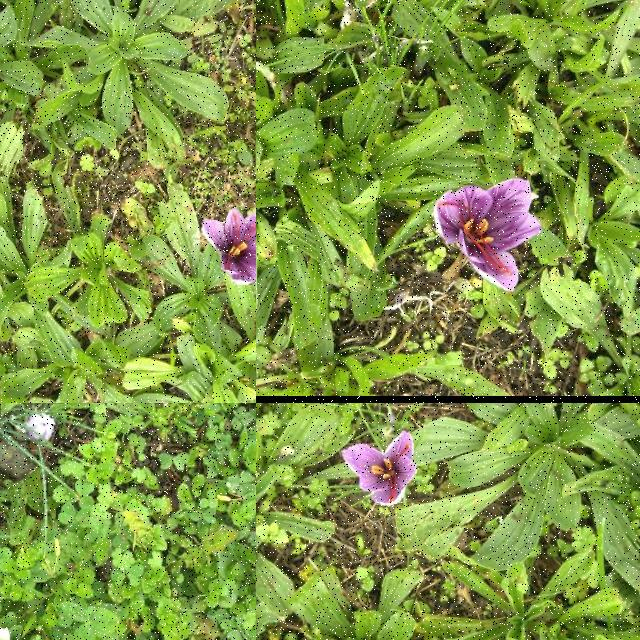flower: (434, 179, 544, 293), (342, 432, 416, 506), (204, 209, 256, 285), (24, 414, 56, 444)
